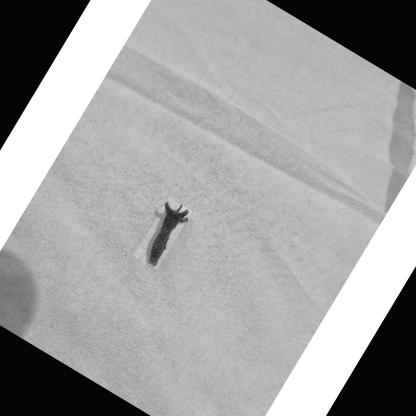buruk: (148, 204, 188, 268)
